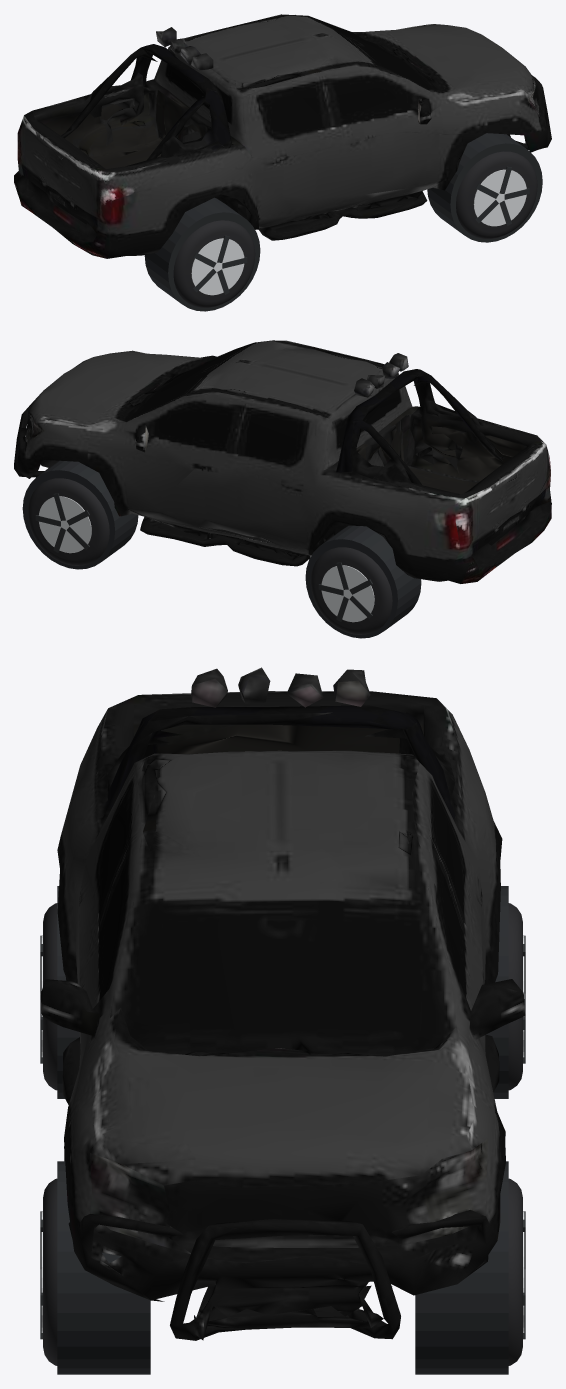
Rendered from pickup.glb.
3 views of the same model, one above another, from view 1: azimuth 30°, elevation 25°; view 2: azimuth 150°, elevation 25°; view 3: azimuth 270°, elevation 25° (orthographic). The views are drawn at different scales.
Visible parts, largest first — view 1: Body, Wheel_RR, Wheel_FR, Liner_RR, Liner_FR; view 2: Body, Wheel_RL, Wheel_FL, Liner_RL, Liner_FL; view 3: Body, Liner_FR, Liner_FL, Wheel_FL, Wheel_FR, Wheel_RL, Wheel_RR, Liner_RL, Liner_RR.
Boxes of the visible parts, bbox=[...] form: Body: bbox=[14, 14, 551, 258]; Wheel_RR: bbox=[173, 220, 255, 307]; Wheel_FR: bbox=[456, 151, 537, 238]; Liner_RR: bbox=[144, 197, 260, 311]; Liner_FR: bbox=[427, 133, 542, 242]; Body: bbox=[14, 340, 551, 583]; Wheel_RL: bbox=[310, 547, 392, 634]; Wheel_FL: bbox=[28, 478, 109, 565]; Liner_RL: bbox=[305, 525, 421, 638]; Liner_FL: bbox=[22, 460, 138, 569]; Body: bbox=[40, 667, 525, 1340]; Liner_FR: bbox=[57, 1161, 150, 1374]; Liner_FL: bbox=[415, 1161, 508, 1374]; Wheel_FL: bbox=[508, 1178, 525, 1365]; Wheel_FR: bbox=[40, 1178, 57, 1365]; Wheel_RL: bbox=[508, 903, 525, 1090]; Wheel_RR: bbox=[40, 903, 57, 1090]; Liner_RL: bbox=[486, 886, 508, 1098]; Liner_RR: bbox=[57, 886, 79, 1098].
Size of the model in its own units: 2.3 by 1.02 by 1.02.
Materials: 5 (1 with a texture image).
